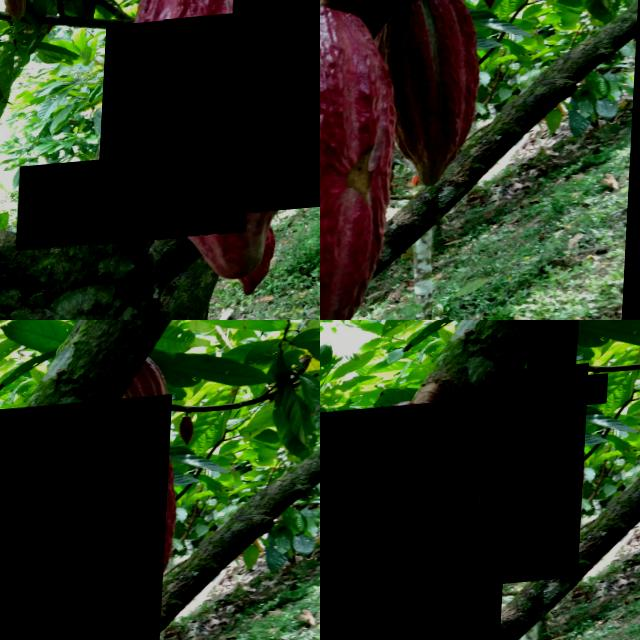Sana: (320, 403, 514, 640), (0, 402, 173, 640), (100, 19, 260, 249), (158, 11, 320, 226), (479, 372, 590, 593), (21, 161, 137, 253), (528, 323, 579, 398), (587, 383, 609, 414)
